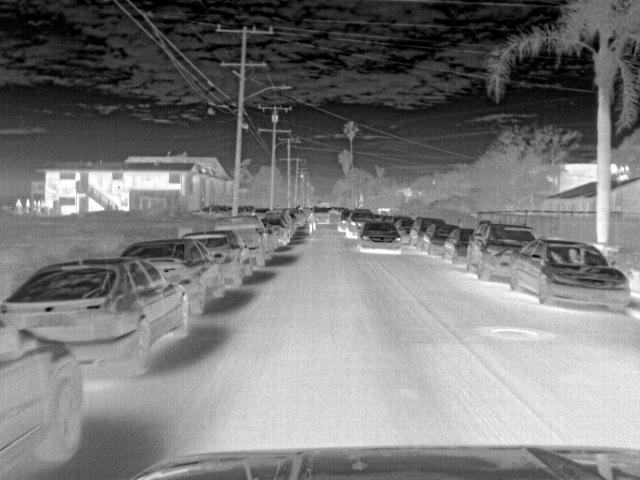car: (2, 255, 192, 373), (2, 304, 83, 479), (508, 239, 636, 312), (121, 238, 225, 317), (466, 223, 540, 282), (184, 234, 250, 292), (208, 213, 269, 271), (359, 220, 404, 252), (445, 227, 476, 267), (421, 222, 455, 256), (408, 218, 442, 248), (348, 208, 380, 236), (262, 218, 290, 246), (187, 204, 232, 218), (279, 206, 306, 227), (338, 209, 356, 232), (312, 206, 331, 224)
person: (308, 211, 320, 235), (23, 197, 32, 216), (15, 197, 23, 215)
